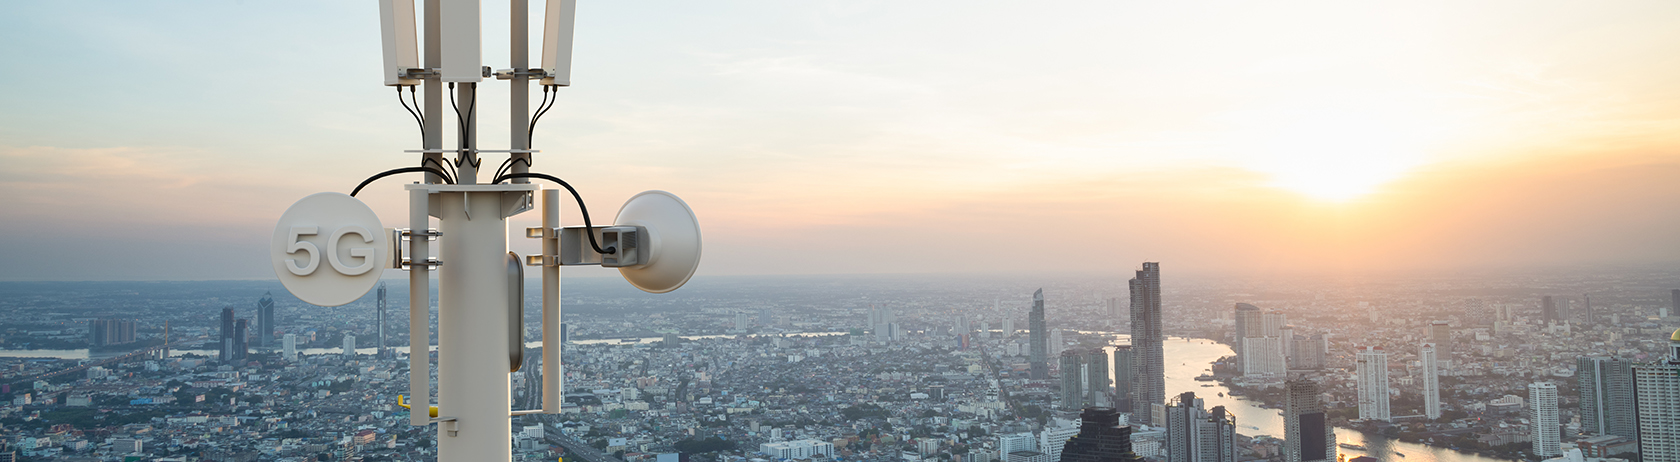ba: (582, 166, 709, 303)
